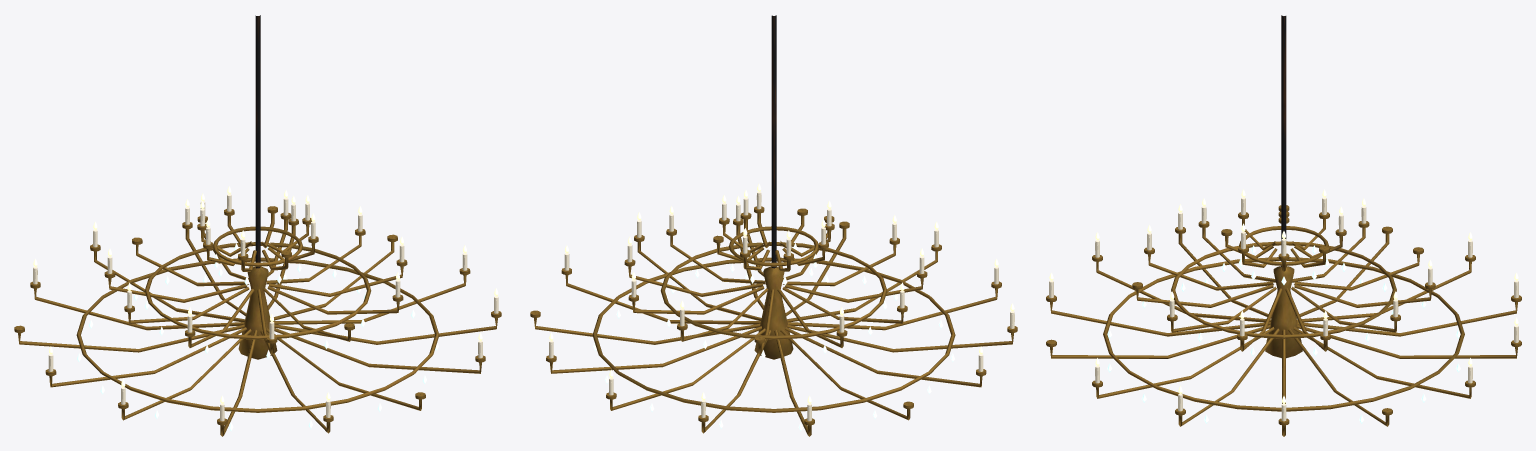
File: chandelier_grand.glb
3 renders of one model, left to right at view 1: azimuth 30°, elevation 25°; view 2: azimuth 150°, elevation 25°; view 3: azimuth 270°, elevation 25°, orthographic.
Parts seen in each view (by area): view 1: chandelier_grand; view 2: chandelier_grand; view 3: chandelier_grand.
Boxes of the visible parts, bbox=[...] form: chandelier_grand: bbox=[14, 15, 501, 436]; chandelier_grand: bbox=[530, 15, 1017, 436]; chandelier_grand: bbox=[1046, 15, 1521, 436].
Size of the model in its own units: 4.5 by 3.5 by 4.39.
5 materials, 2 textured.
